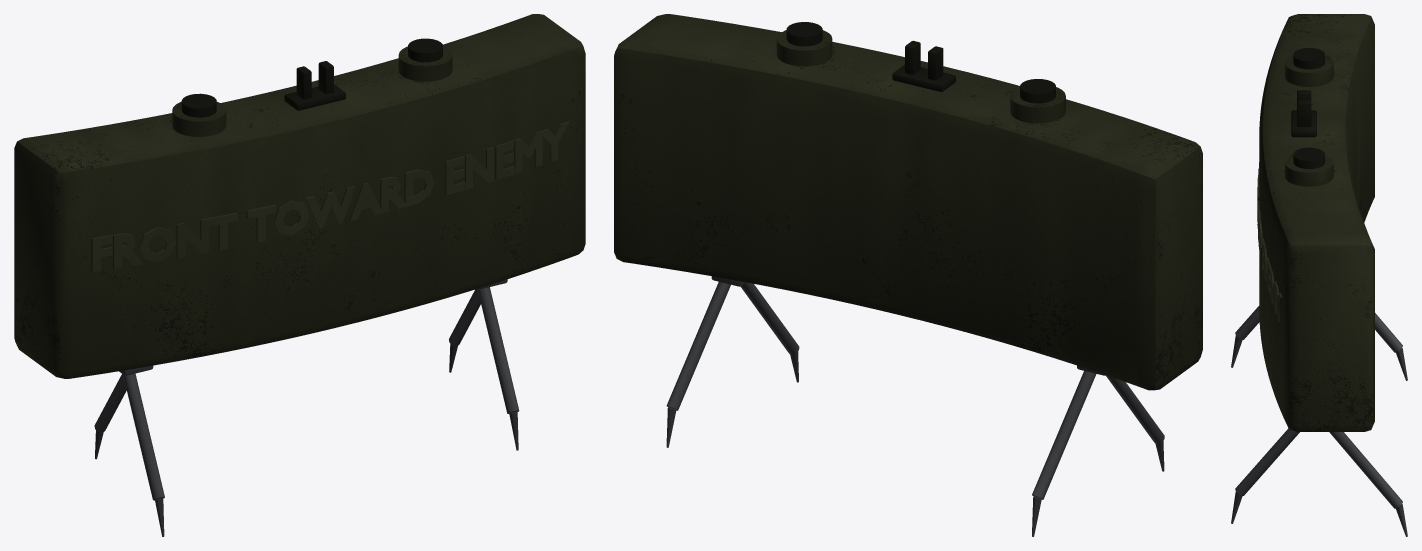
File: claymore.gltf
3 views of the same model, side by side, from view 1: azimuth 30°, elevation 25°; view 2: azimuth 150°, elevation 25°; view 3: azimuth 270°, elevation 25° (orthographic). The views are drawn at different scales.
Visible parts, largest first — view 1: claymore; view 2: claymore; view 3: claymore.
Part boxes in pixels (<box>): claymore: <box>14,14,585,536</box>; claymore: <box>614,14,1202,536</box>; claymore: <box>1231,14,1407,536</box>.
Size of the model in its own units: 0.216 by 0.1531 by 0.069.
4 materials, 4 textured.
